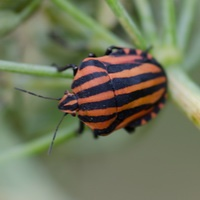insect: (58, 46, 166, 137)
